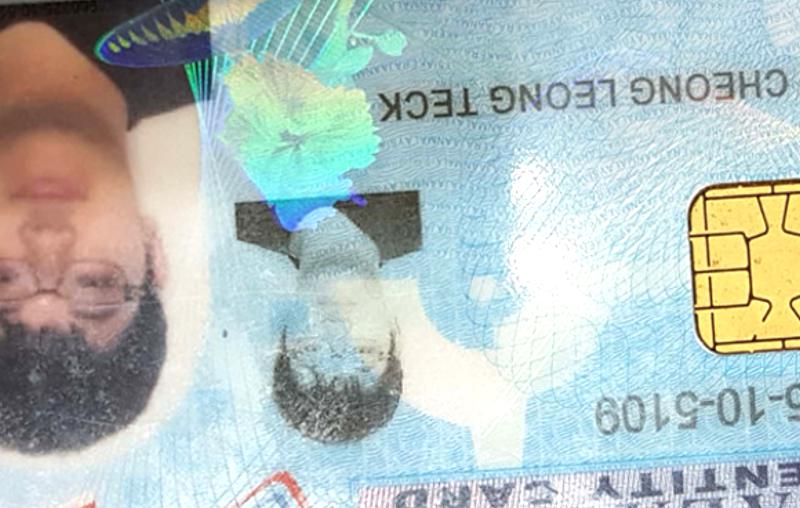hologramB: (210, 46, 364, 200)
